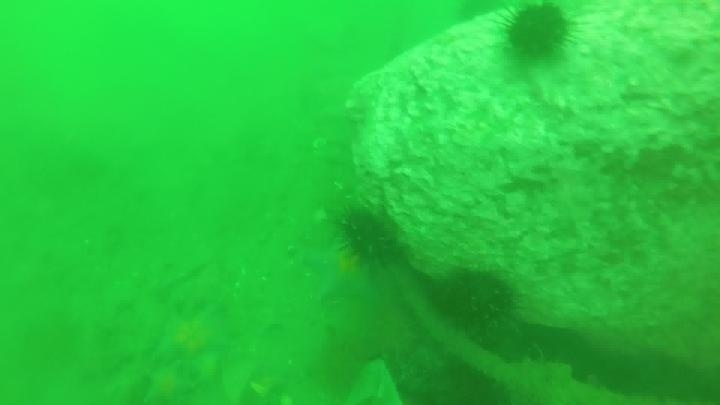echinus: (429, 264, 521, 342), (496, 1, 578, 65), (335, 203, 401, 269)
starfish: (152, 304, 233, 369), (302, 240, 377, 303), (141, 363, 196, 405)
